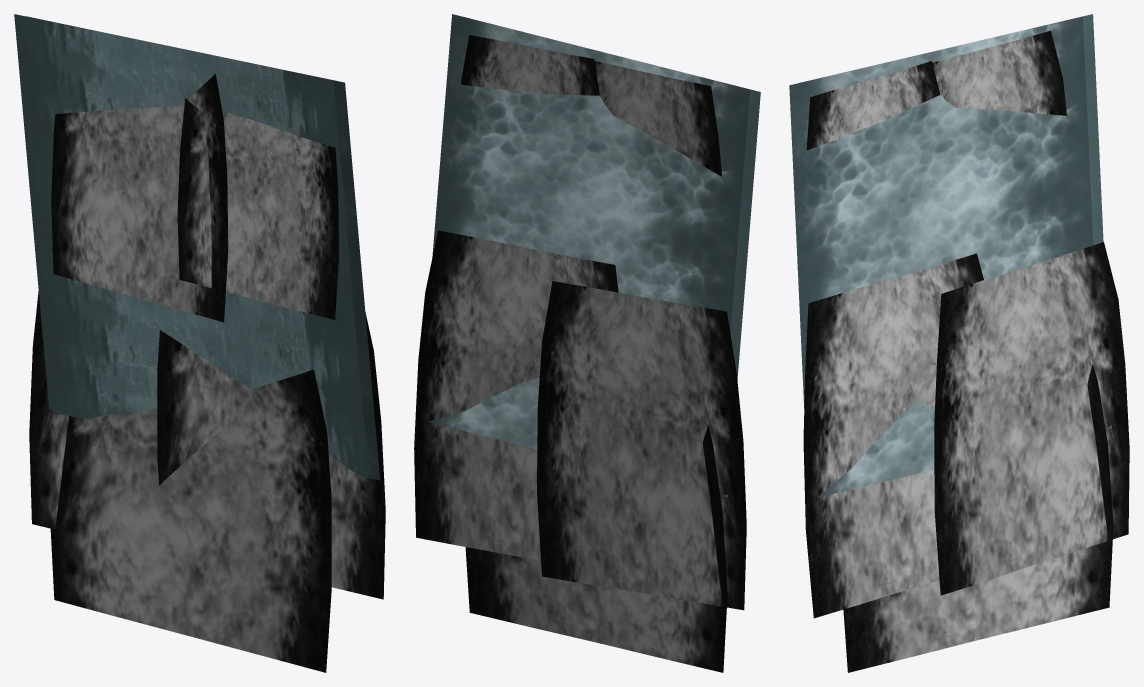
The model's file is dragonblight_combin_waterfall_01.obj.
3 views of the same model, side by side, from view 1: azimuth 30°, elevation 25°; view 2: azimuth 210°, elevation 25°; view 3: azimuth 270°, elevation 25° (orthographic). The views are drawn at different scales.
Visible parts, largest first — view 1: Geoset0, Geoset3, Geoset1, Geoset2; view 2: Geoset0, Geoset2, Geoset3, Geoset1; view 3: Geoset0, Geoset2, Geoset3, Geoset1.
Boxes of the visible parts, x1,y1,x2,y2 form: Geoset0: (29,74,385,599); Geoset3: (50,370,331,672); Geoset1: (14,14,368,478); Geoset2: (26,16,380,480); Geoset0: (414,35,746,610); Geoset2: (429,14,749,449); Geoset3: (465,344,727,672); Geoset1: (722,89,760,497); Geoset0: (803,30,1129,618); Geoset2: (789,16,1093,497); Geoset3: (843,364,1113,672); Geoset1: (1082,14,1111,429).
Size of the model in its own units: 73.8 by 196 by 104.
3 materials, 3 textured.
